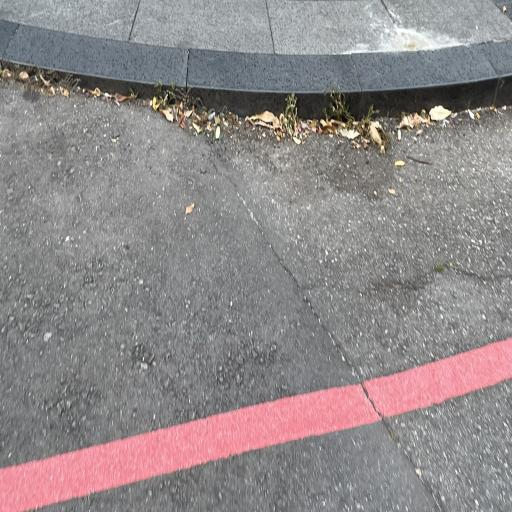redline: (0, 325, 511, 512)
